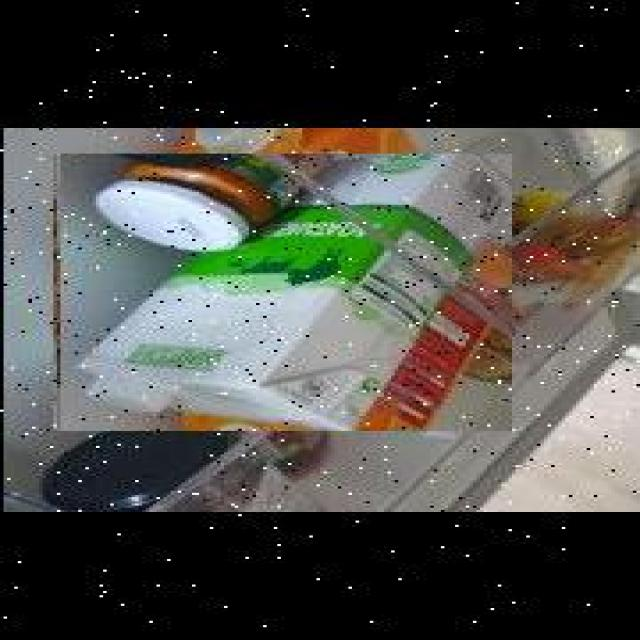milk: (54, 155, 508, 432)
